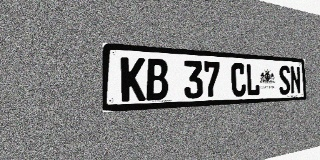3: (184, 60, 203, 99)
7: (203, 61, 220, 98)
B: (146, 58, 168, 101)
C: (231, 63, 246, 97)
K: (121, 57, 146, 102)
L: (246, 63, 260, 96)
N: (290, 66, 301, 94)
S: (279, 65, 291, 95)
